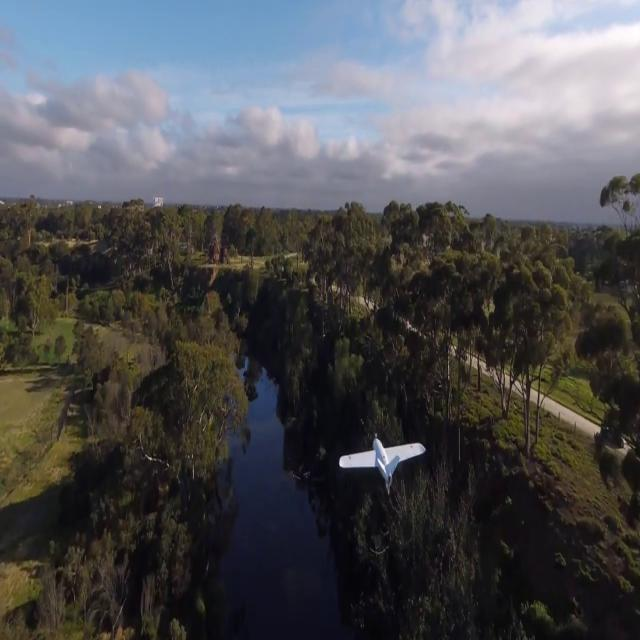iha: (370, 427, 396, 482)
